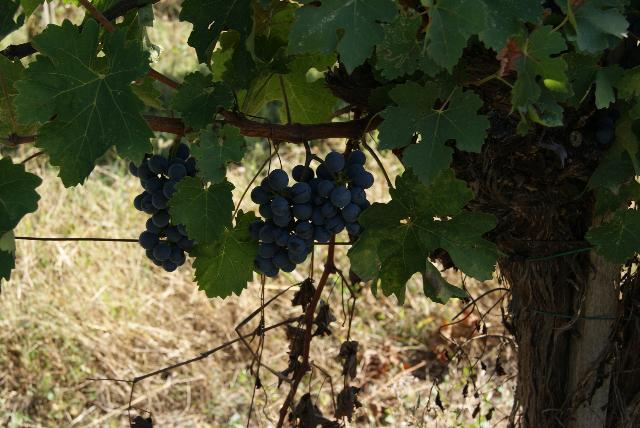grapes: (249, 150, 374, 278), (135, 144, 195, 272)
